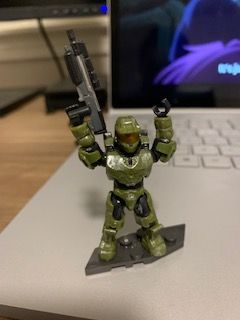chief: (64, 99, 178, 260)
rifle: (63, 29, 108, 140)
spartan: (62, 97, 176, 258)
up: (65, 98, 178, 190)
